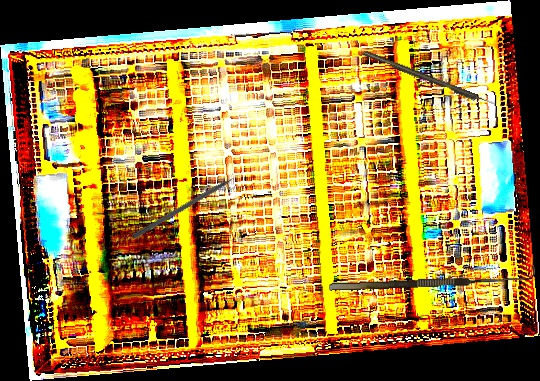Hook Surgical: (362, 49, 497, 109), (328, 265, 536, 291)
Pusher: (131, 168, 249, 241)
